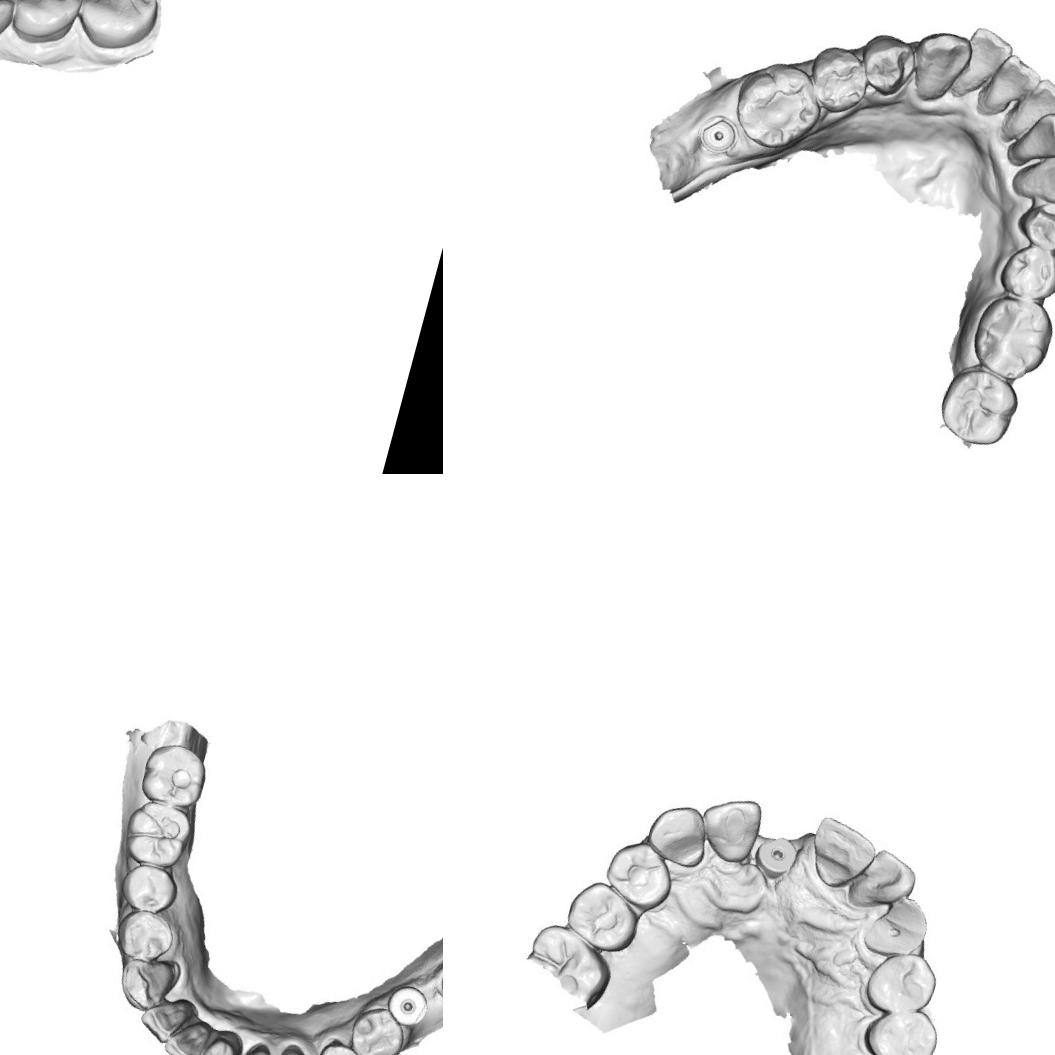canine: (900, 19, 977, 111), (856, 887, 936, 965), (640, 798, 712, 871), (109, 951, 178, 1015), (1007, 136, 1055, 214), (265, 1038, 327, 1055)
implant: (748, 832, 800, 888), (694, 113, 739, 160), (389, 984, 432, 1028)
incisor: (798, 812, 882, 900), (690, 786, 766, 868), (841, 841, 920, 918), (952, 22, 1018, 103), (980, 46, 1044, 120), (1002, 70, 1055, 154), (1005, 103, 1055, 176), (138, 992, 194, 1048), (167, 1014, 213, 1055), (194, 1029, 241, 1055), (234, 1038, 281, 1055)
molar: (722, 52, 832, 160), (930, 356, 1026, 455), (965, 288, 1055, 386), (65, 0, 169, 61), (120, 794, 198, 870), (134, 740, 206, 810), (0, 0, 91, 52)
premolar: (558, 873, 650, 958), (594, 832, 683, 914), (856, 942, 941, 1020), (800, 38, 876, 121), (851, 23, 924, 102), (855, 997, 946, 1055), (993, 237, 1055, 307), (115, 905, 176, 968), (119, 858, 184, 917), (346, 1003, 407, 1055), (1009, 190, 1055, 258), (313, 1042, 367, 1055)
